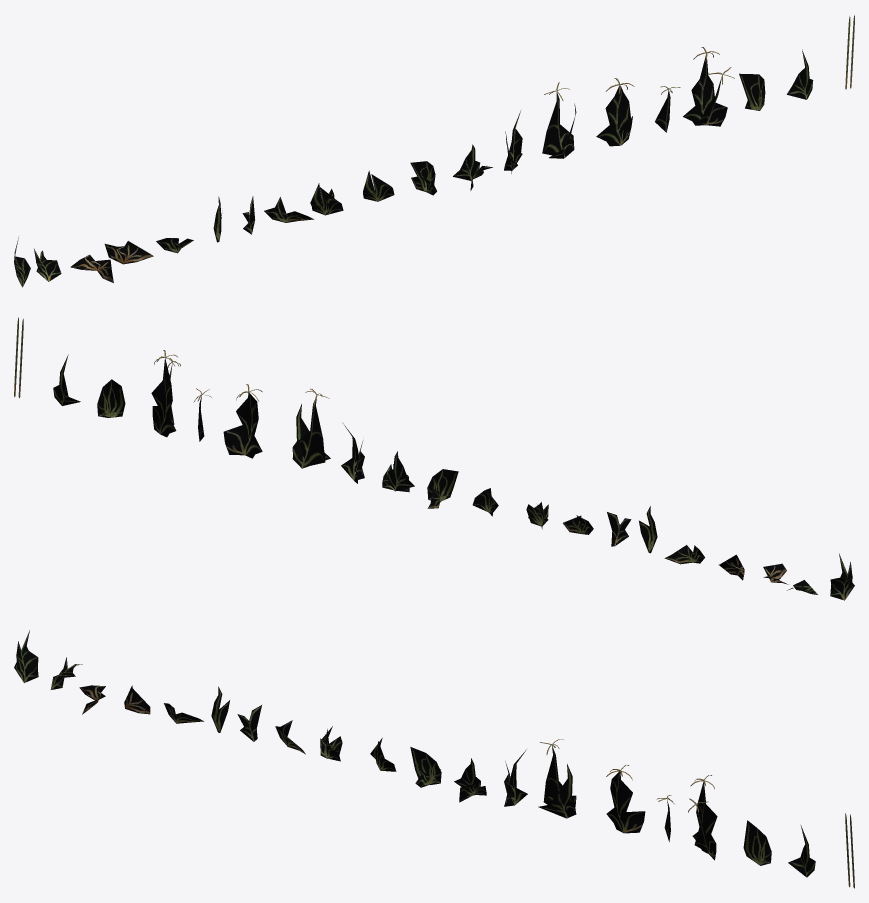
The model's file is grass_bermuda.glb.
3 views of the same model, one above another, from view 1: azimuth 30°, elevation 25°; view 2: azimuth 150°, elevation 25°; view 3: azimuth 330°, elevation 25° (orthographic).
Visible parts, largest first — view 1: grass_bermuda; view 2: grass_bermuda; view 3: grass_bermuda.
Boxes of the visible parts, x1,y1,x2,y2 form: grass_bermuda: (14, 15, 854, 287); grass_bermuda: (14, 317, 854, 600); grass_bermuda: (14, 630, 854, 888).
Size of the model in its own units: 1.92 by 0.18 by 0.1619.
Materials: 1 (1 with a texture image).
